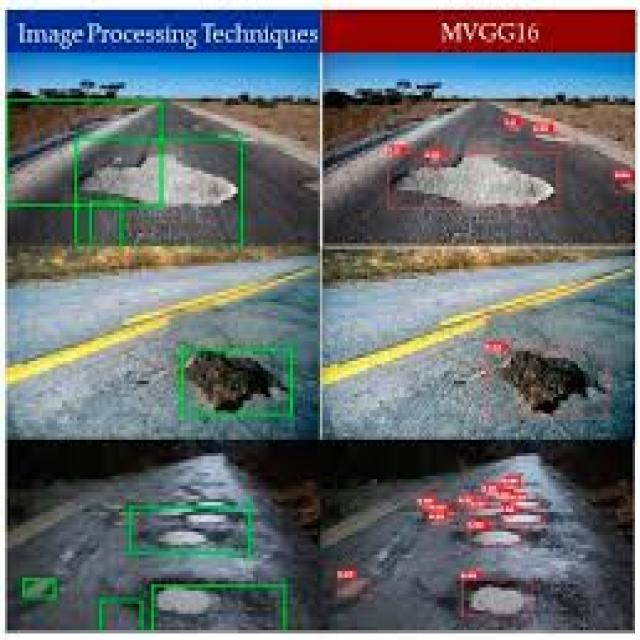Pothole: (176, 348, 285, 417), (499, 351, 588, 417), (464, 482, 543, 551), (454, 568, 538, 630)
